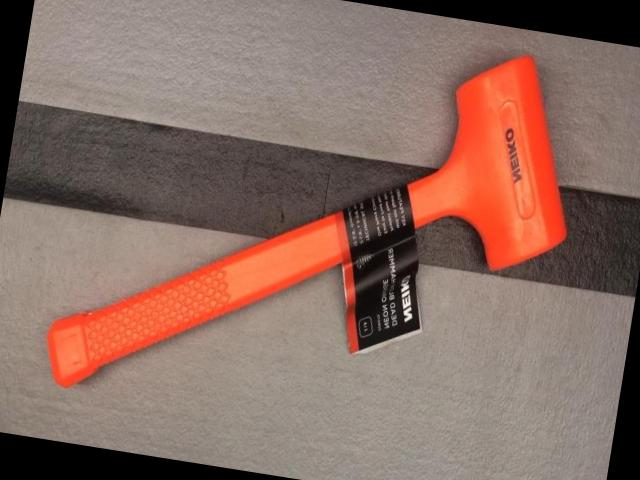hammer: (37, 0, 594, 461)
